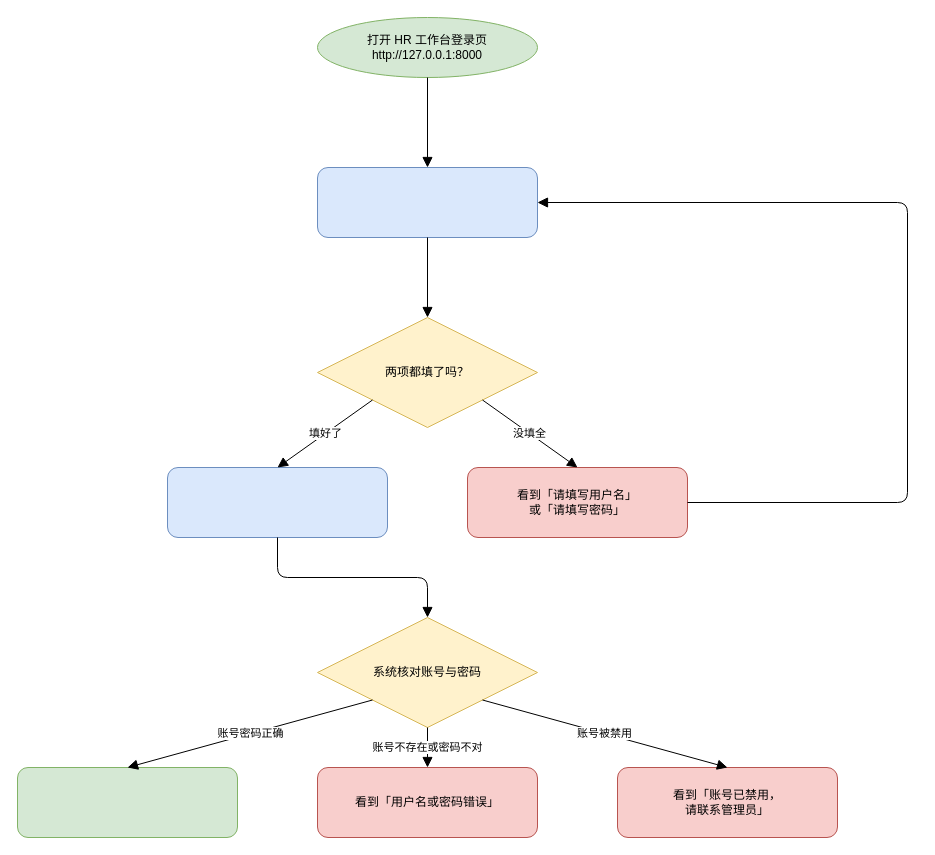
This 935x855 diagram has some shape labels left out. Each missing label, with the centre of its shape:
"在「用户名」「密码」里 填入自己的账号" goes at (427,202).
"点「登录」" goes at (277,502).
"进入「面试」列表页" goes at (127,802).
